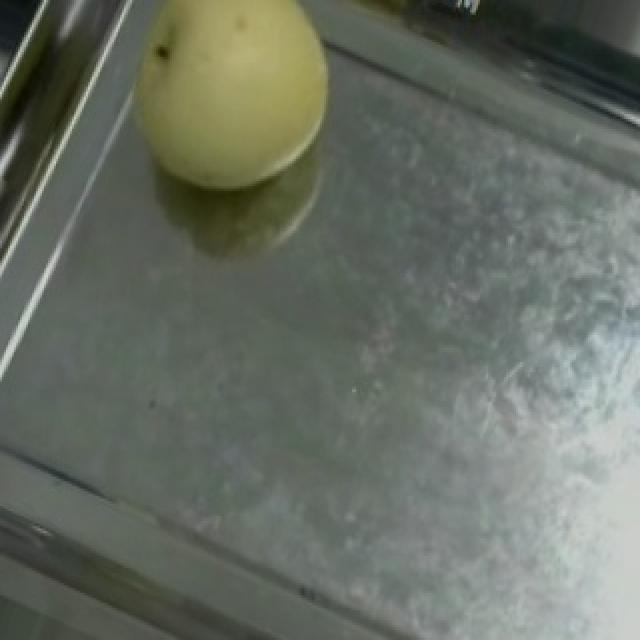Fruit: (88, 0, 368, 228)
